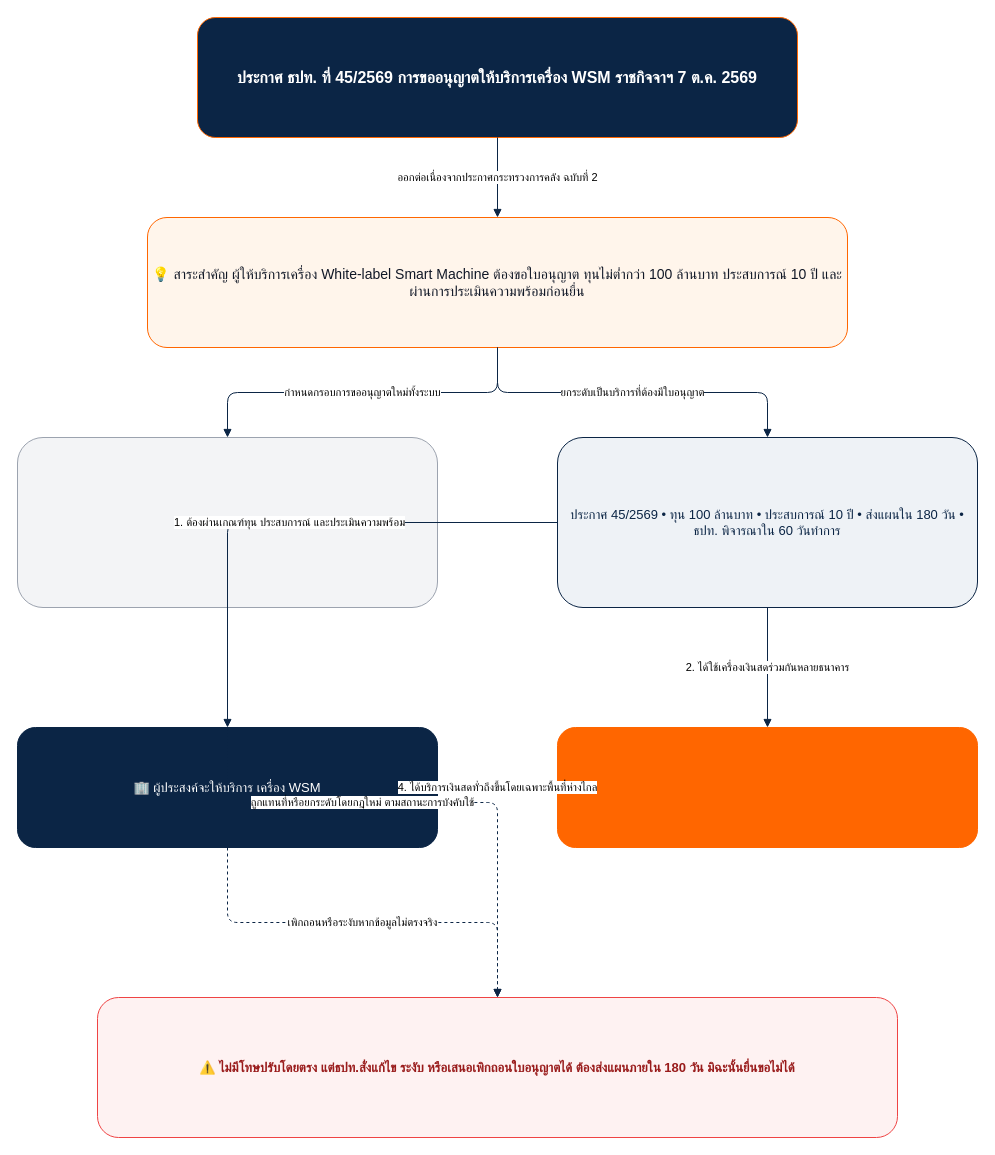
Image size: 995x1155. Some labels were removed from this diagram. Here are the shapes that lost their labels. From the top down, the centre of each, then its label:
At (227,522): "ก่อนหน้านี้ • ยังไม่มีใบอนุญาตเฉพาะ • ไม่มีเกณฑ์ทุนและประสบการณ์".
At (767,787): "👤 ประชาชนและ ผู้ใช้เงินสด".
